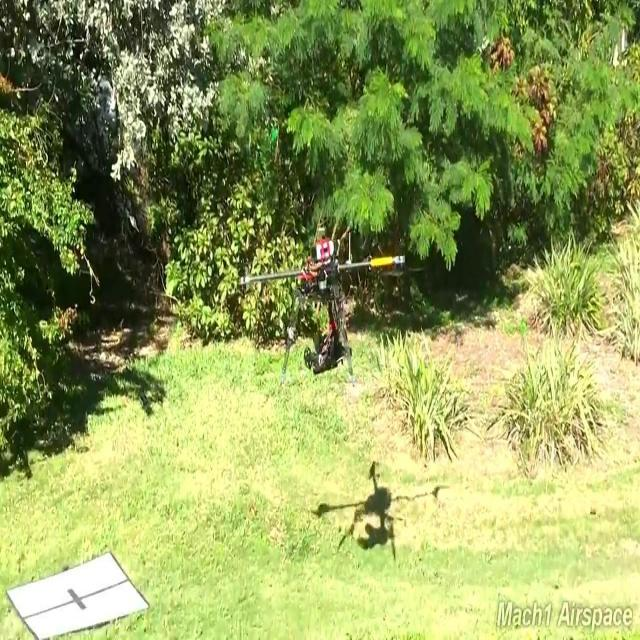UAV: (241, 235, 405, 374)
